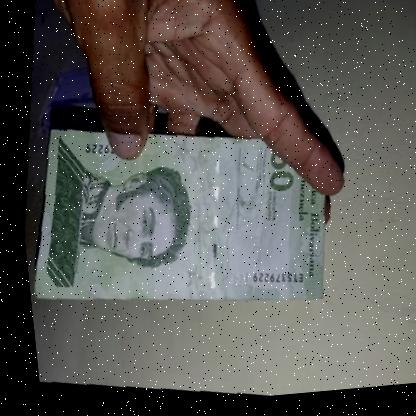fifty-front-vef: (11, 100, 344, 349)
